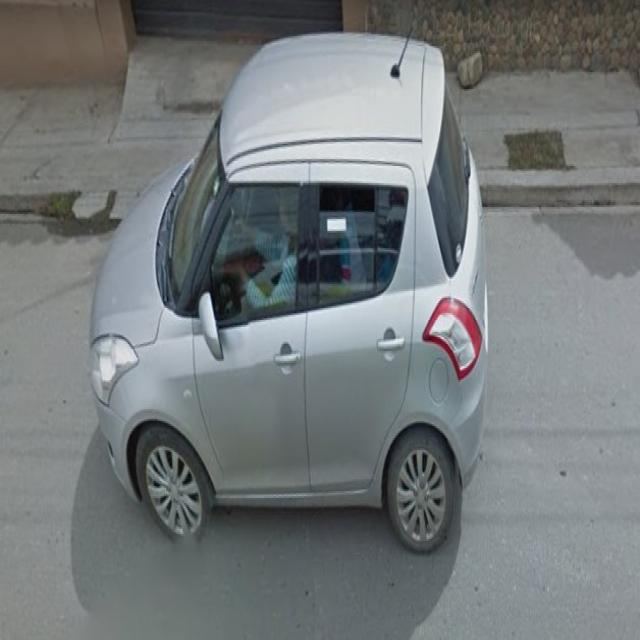Car: (87, 34, 495, 554)
